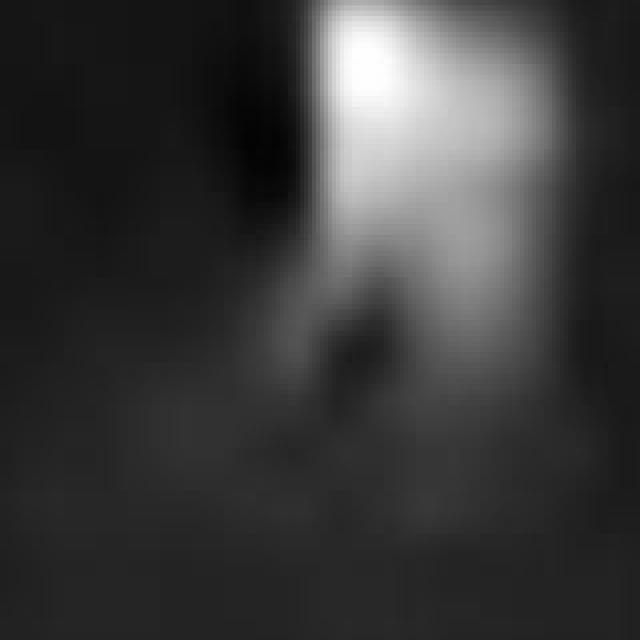person: (257, 1, 593, 529)
